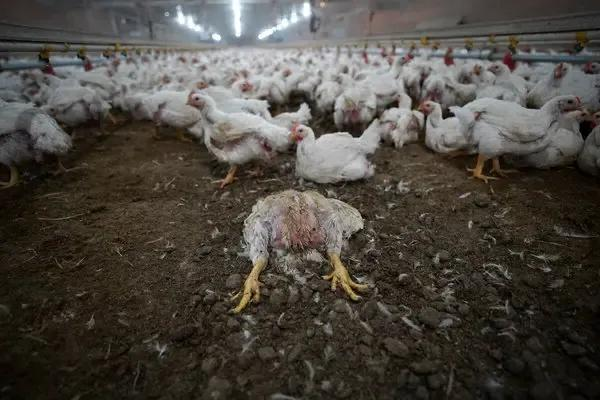AbNormal: (234, 178, 383, 311)
